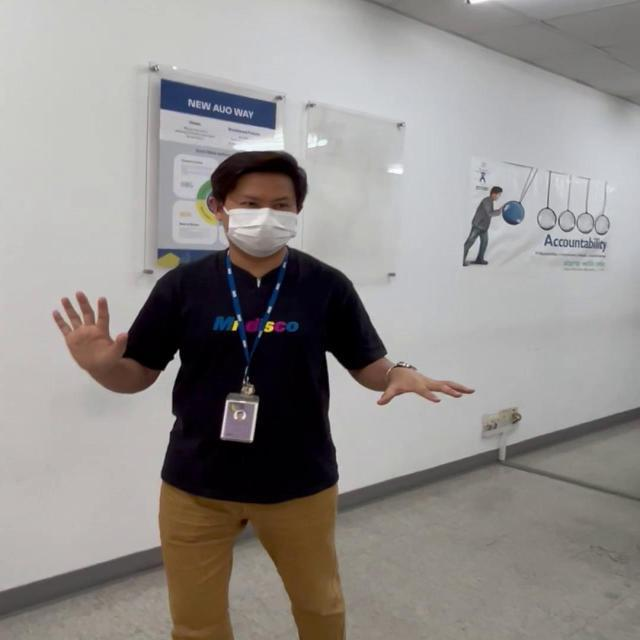bare_hand: (52, 284, 125, 370), (372, 362, 471, 408)
